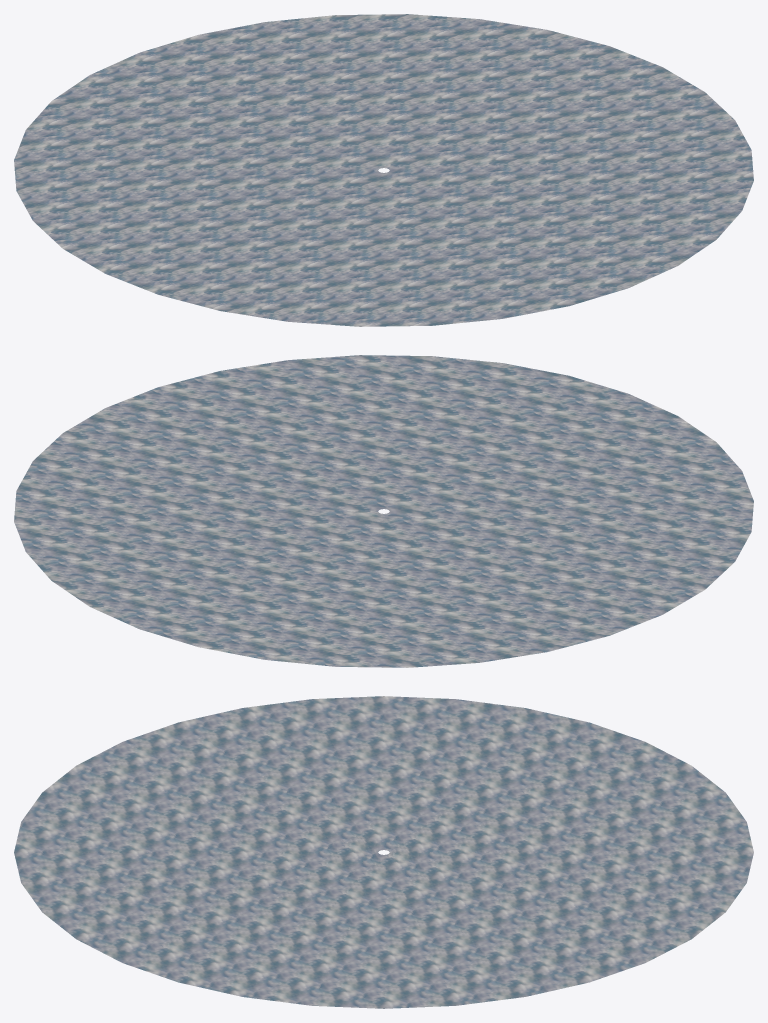
The model's file is effect_Cylinder_fog.FBX.
3 renders of one model, top to bottom at view 1: azimuth 30°, elevation 25°; view 2: azimuth 150°, elevation 25°; view 3: azimuth 270°, elevation 25°, orthographic.
Visible parts, largest first — view 1: effect_Cylinder_fog; view 2: effect_Cylinder_fog; view 3: effect_Cylinder_fog.
Part boxes in pixels (bbox=[...]): effect_Cylinder_fog: bbox=[14, 14, 753, 326]; effect_Cylinder_fog: bbox=[14, 355, 753, 667]; effect_Cylinder_fog: bbox=[14, 696, 753, 1008].
Bounding box in the file's own units: 10000 × 6.25e-13 × 10000.
